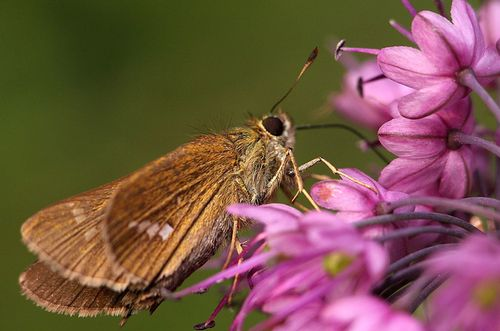Hesperiidae: (15, 45, 382, 320)
